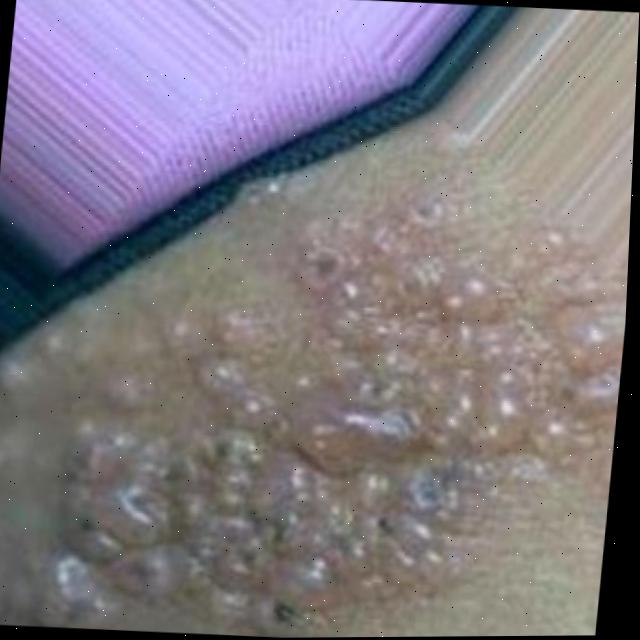Shingles: (0, 165, 632, 640)
